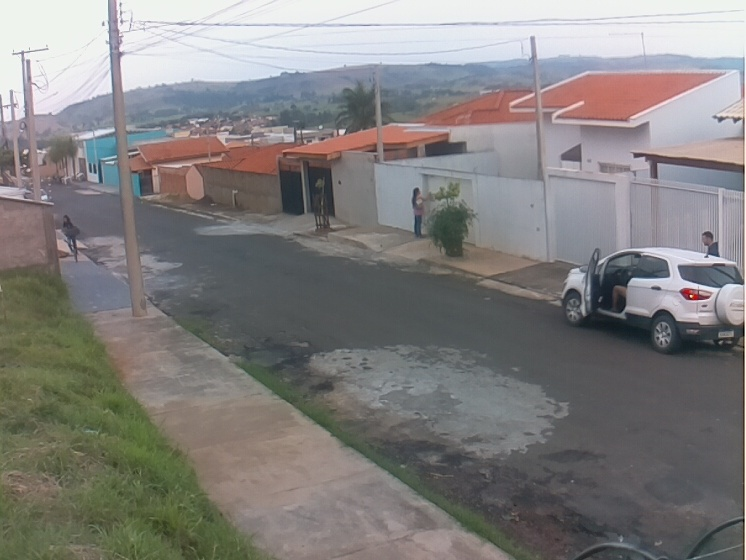person: (410, 187, 430, 237), (61, 214, 80, 257), (698, 229, 723, 259)
